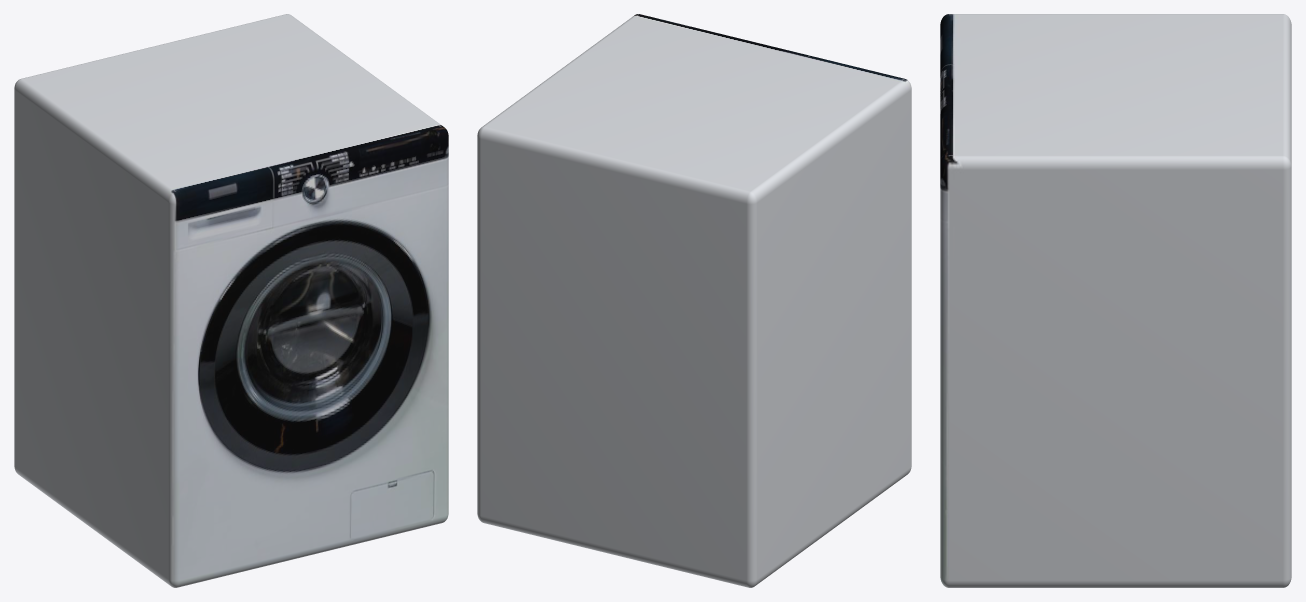
Rendered from Washin Machine.glb.
3 views of the same model, side by side, from view 1: azimuth 30°, elevation 25°; view 2: azimuth 150°, elevation 25°; view 3: azimuth 270°, elevation 25° (orthographic). The views are drawn at different scales.
Parts seen in each view (by area): view 1: Cube; view 2: Cube; view 3: Cube.
Boxes of the visible parts, box(x1,y1,x2,y2) form: Cube: box(14, 14, 448, 587); Cube: box(477, 14, 911, 587); Cube: box(940, 14, 1291, 587).
Size of the model in its own units: 0.11 by 0.1492 by 0.11.
1 material, 1 textured.
